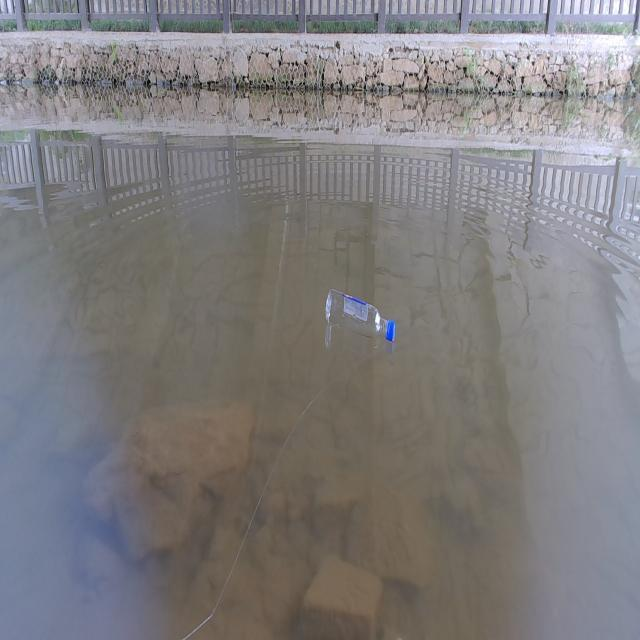bottle: (312, 272, 418, 360)
